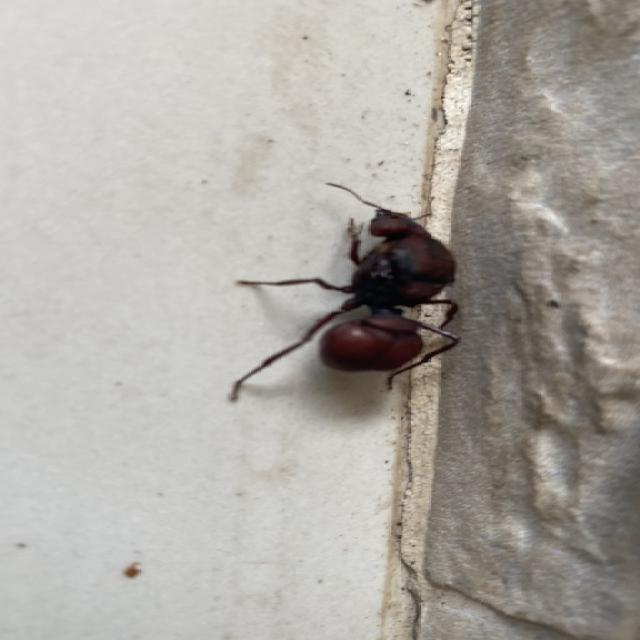Alive-Female-Dealate: (228, 182, 462, 401)
